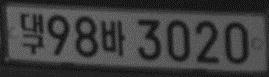0: (165, 19, 191, 62), (223, 21, 249, 64)
2: (194, 20, 219, 64)
3: (137, 18, 162, 60)
8: (74, 15, 98, 57)
9: (47, 13, 69, 56)
대구_V: (20, 12, 45, 55)
바: (100, 19, 125, 56)
